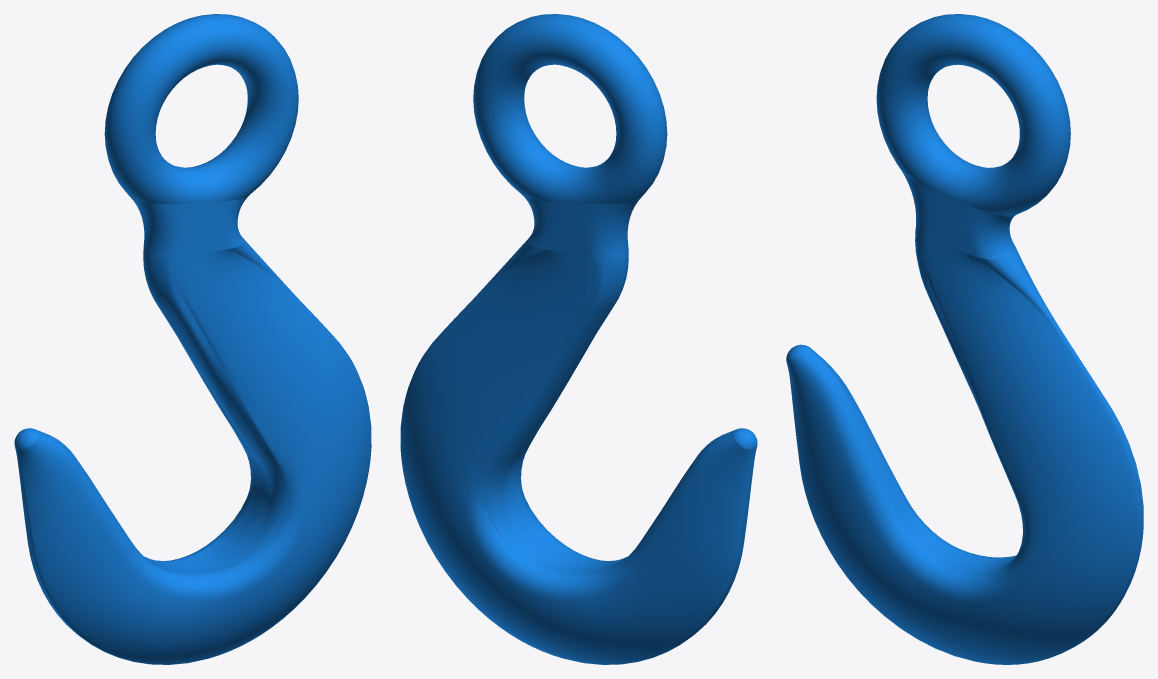
File: cambelhook2.glb
The picture shows the model from 3 angles, left to right: view 1: azimuth 30°, elevation 25°; view 2: azimuth 150°, elevation 25°; view 3: azimuth 330°, elevation 25°; orthographic projection.
Parts seen in each view (by area): view 1: campbell_hook1; view 2: campbell_hook1; view 3: campbell_hook1.
Part boxes in pixels (box(x1,y1,x2,y2)): campbell_hook1: box(14, 14, 371, 664); campbell_hook1: box(400, 14, 757, 664); campbell_hook1: box(786, 14, 1143, 664).
Size of the model in its own units: 0.0762 by 0.1318 by 0.017.
